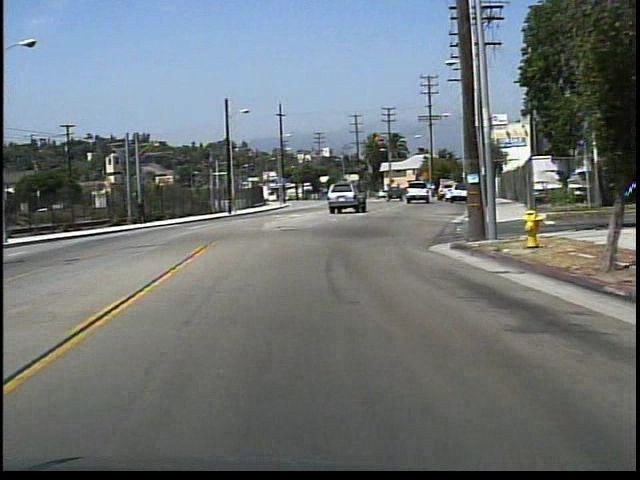person: (137, 193, 152, 225)
